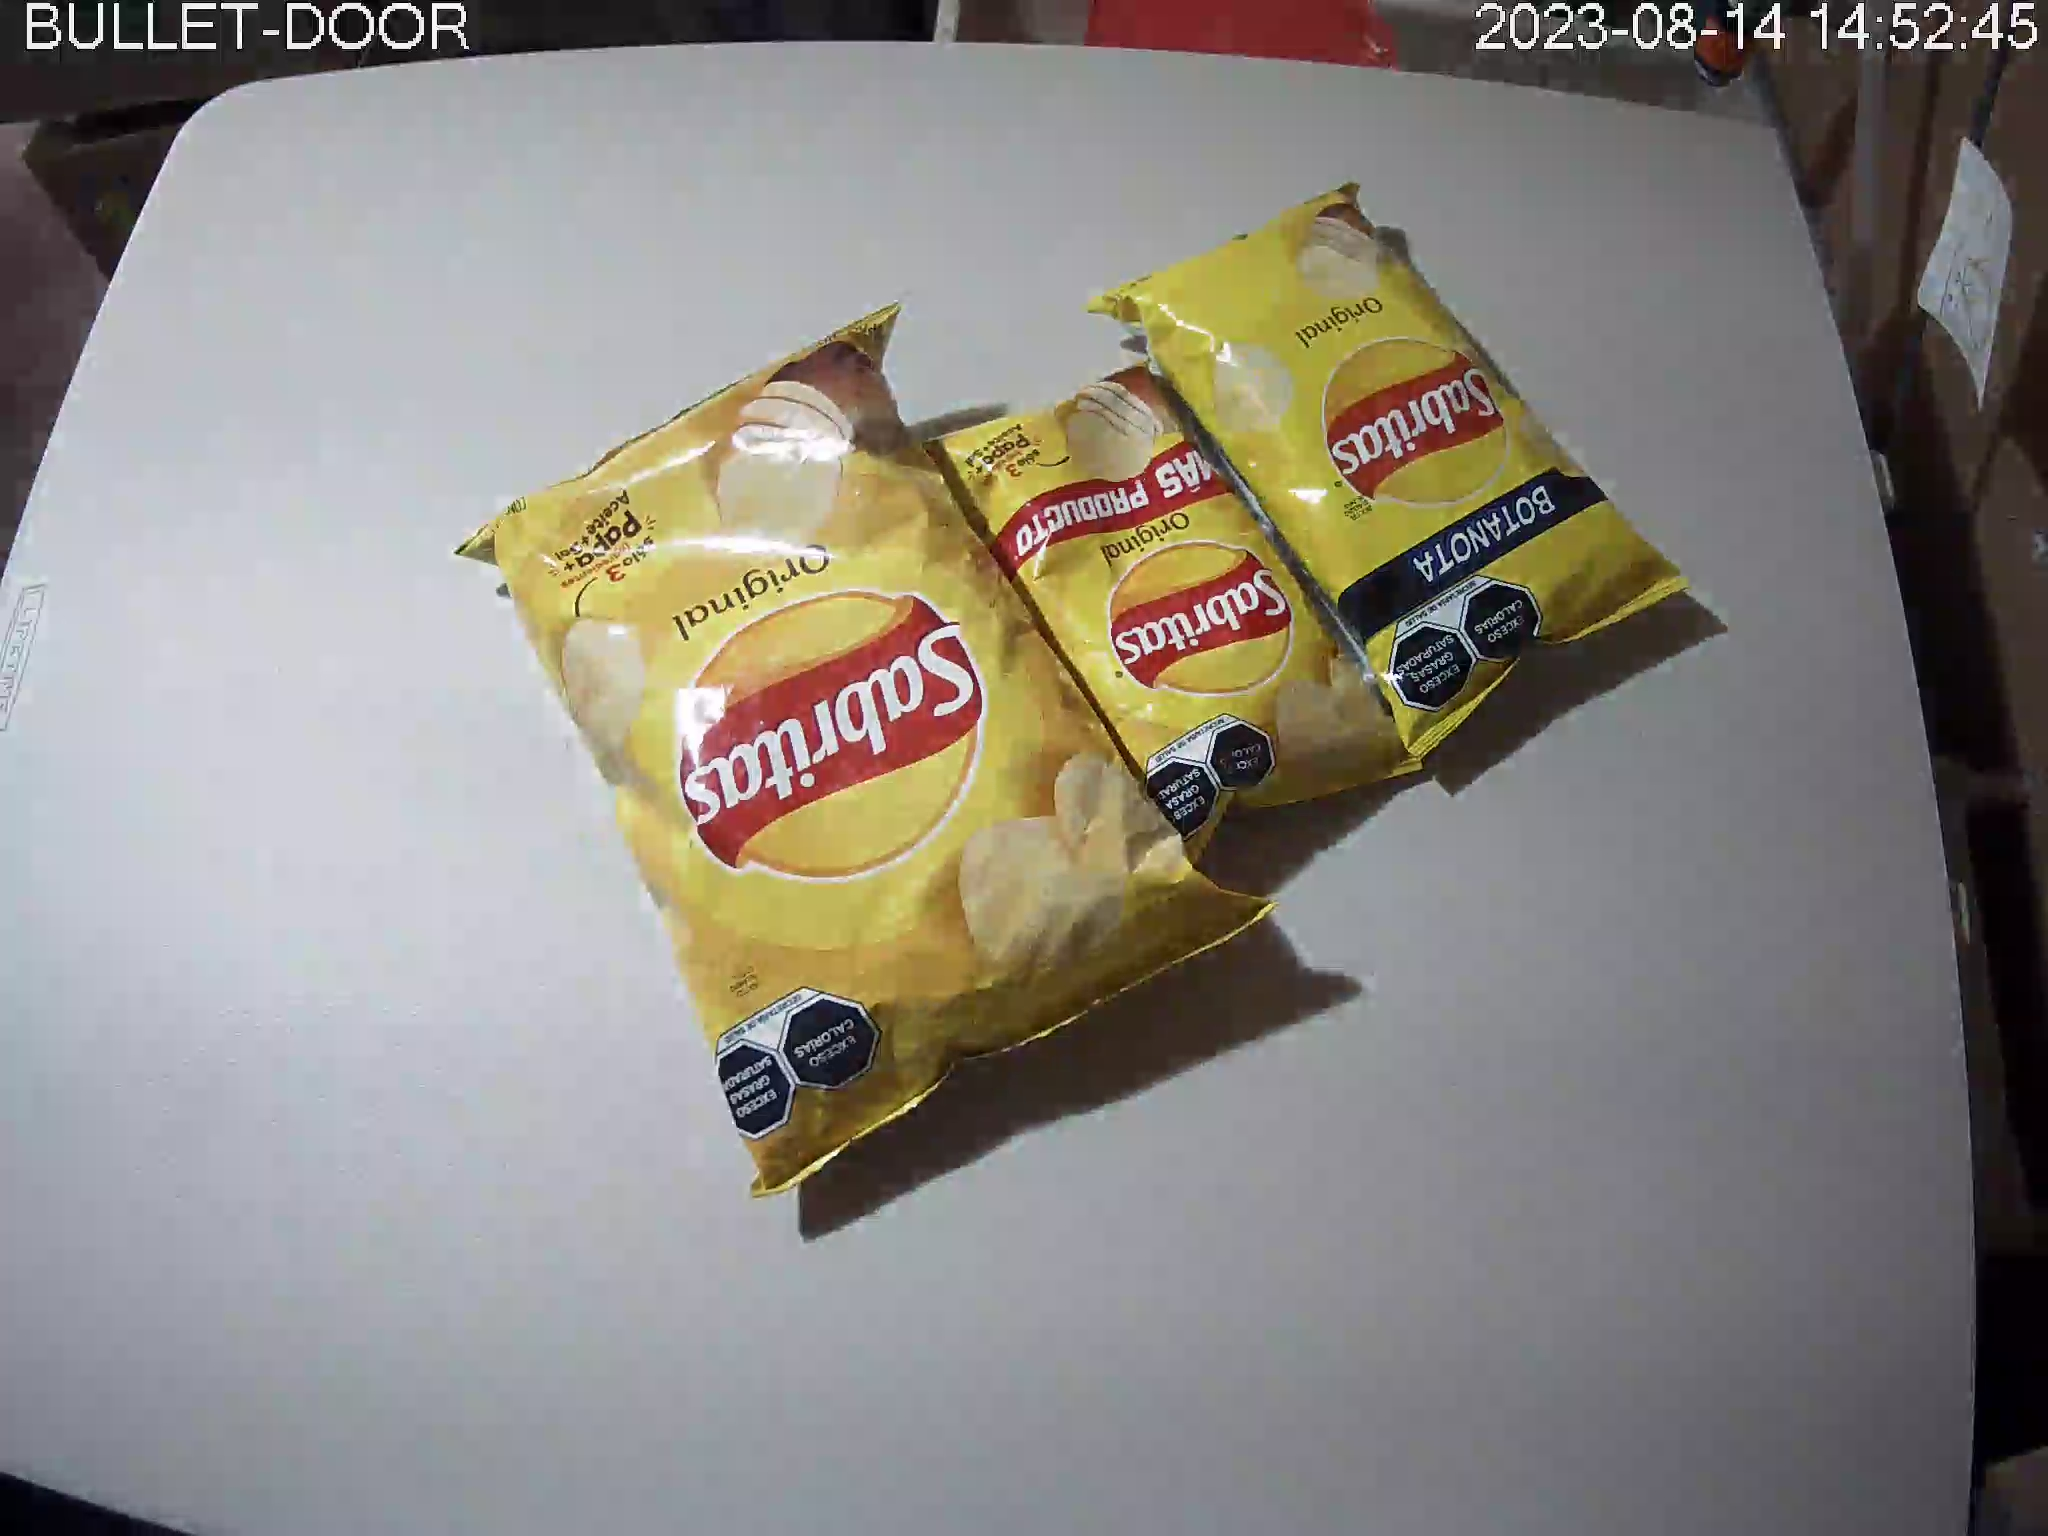Sabritas_160_F: (452, 294, 1290, 1196)
Sabritas_45_F: (910, 360, 1432, 883)
Sabritas_64_F: (1090, 182, 1690, 755)
